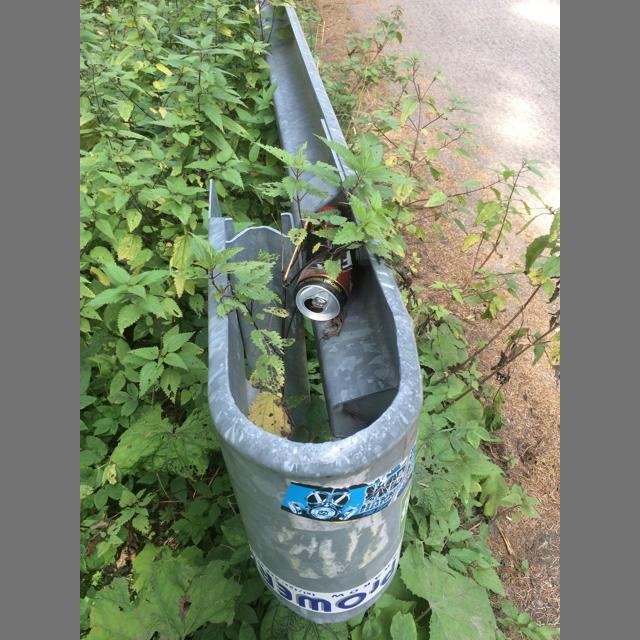litter: (293, 205, 356, 321), (312, 296, 327, 308)
